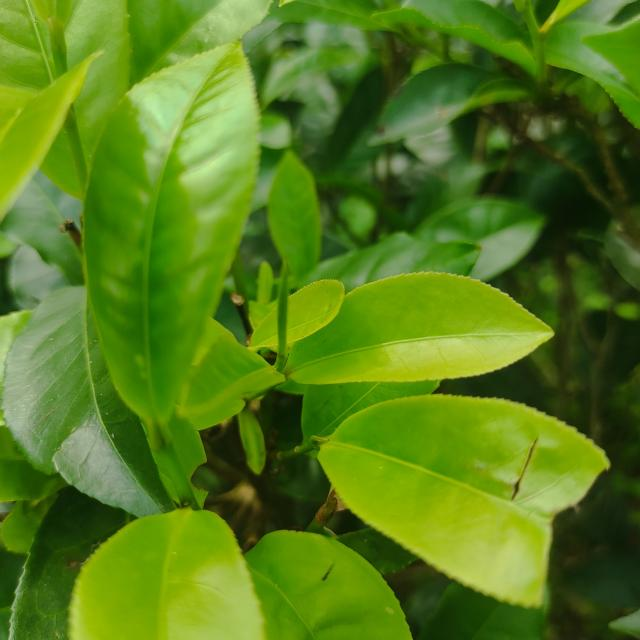unopened_leaf: (267, 253, 295, 379)
